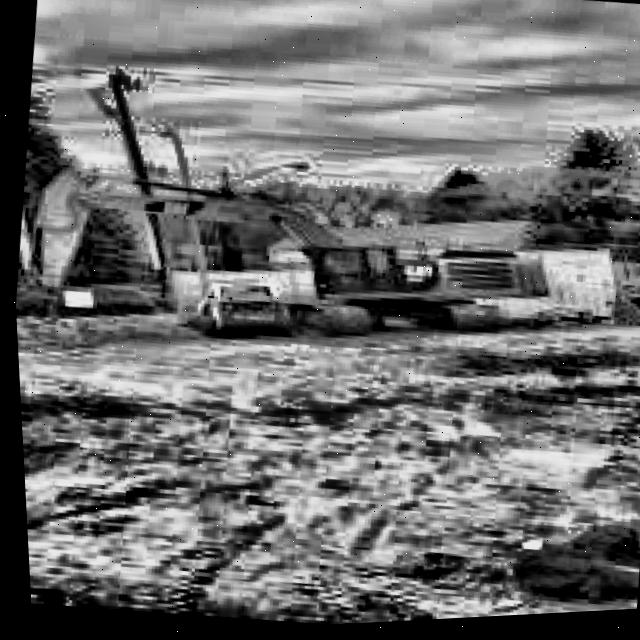excavator: (7, 139, 552, 387)
